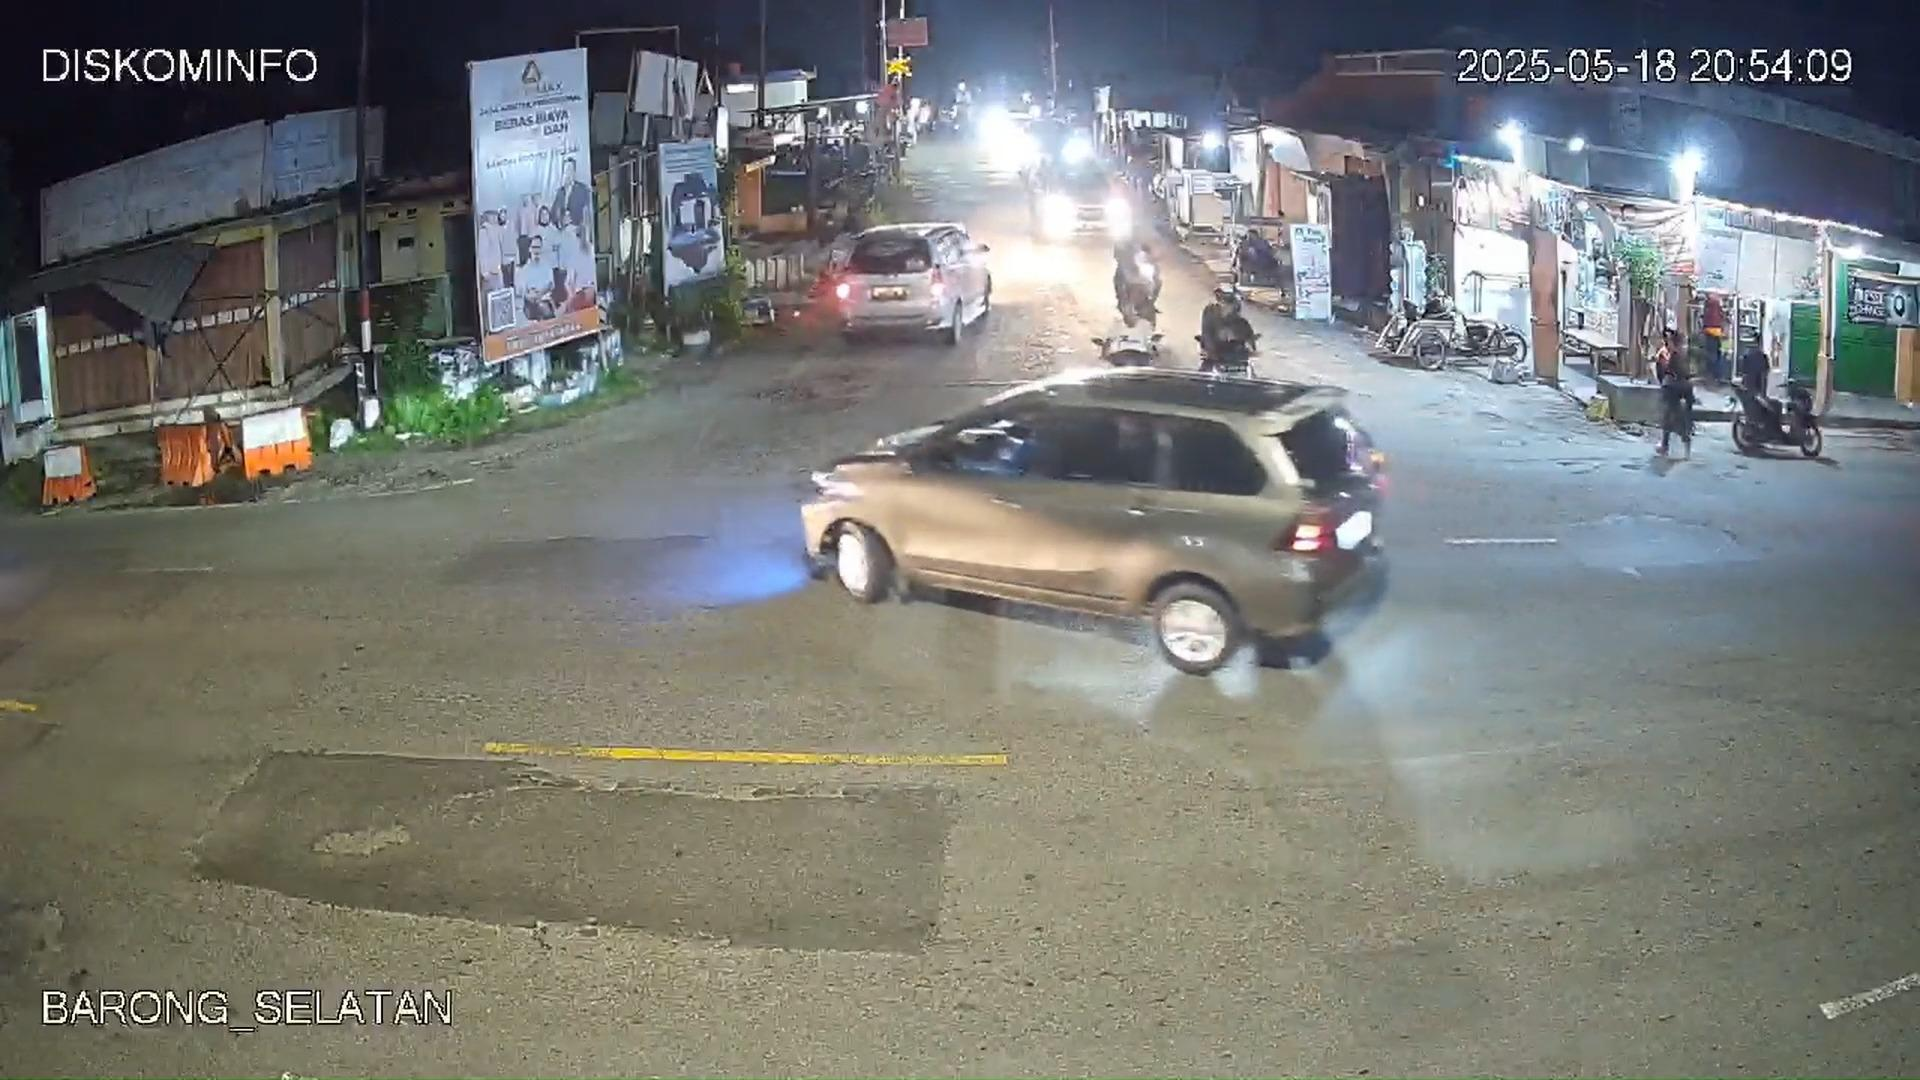Motor: (1730, 377, 1825, 459), (1100, 274, 1167, 368)
mobil: (820, 367, 1365, 676), (820, 224, 972, 343), (1021, 137, 1117, 239)
